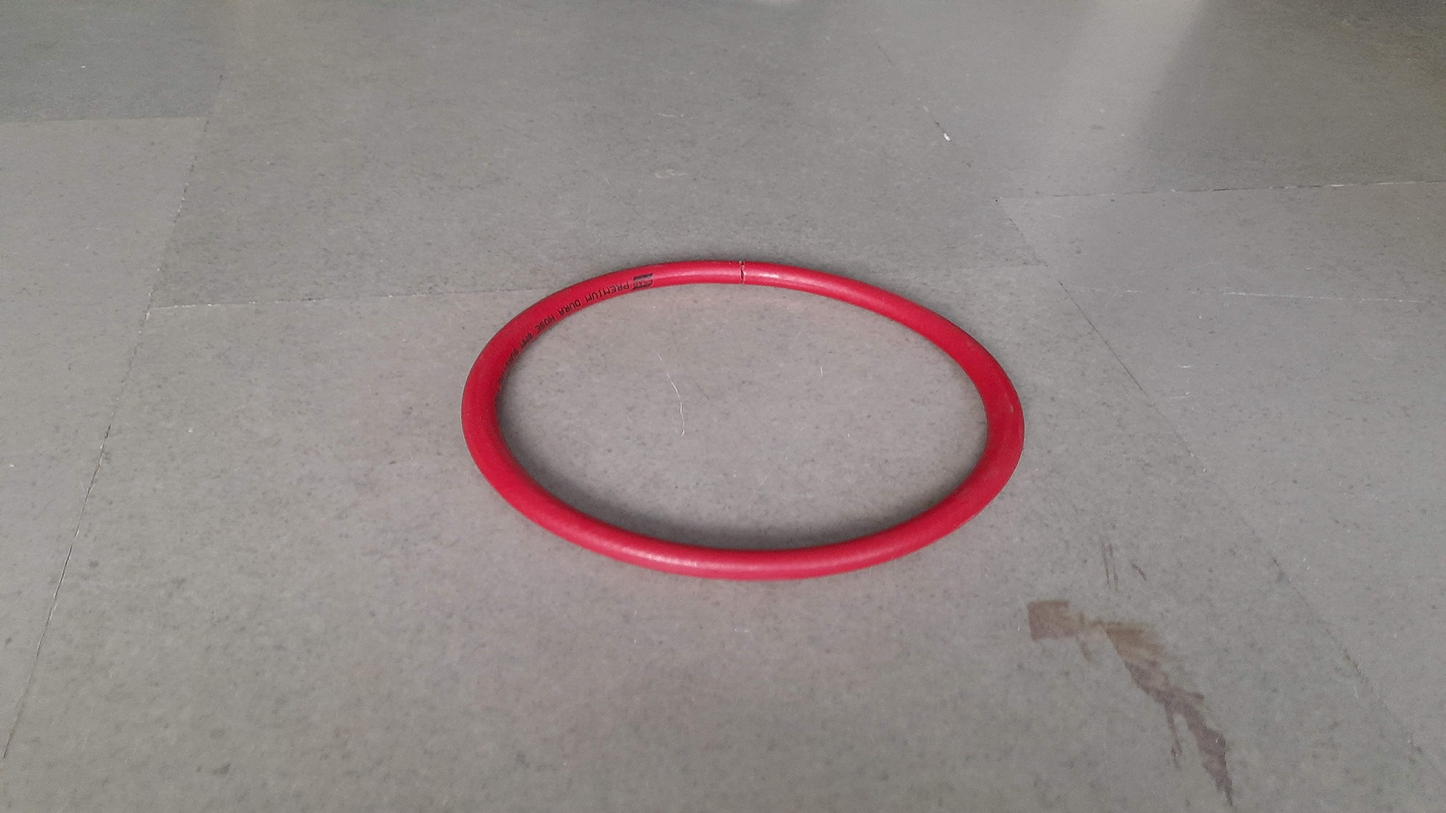Red ring: (458, 260, 1026, 582)
